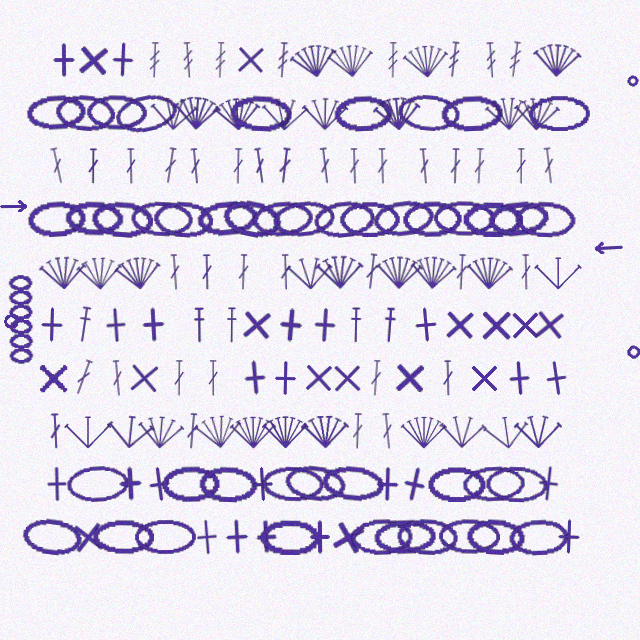chain: (112, 89, 181, 137), (220, 195, 285, 242), (371, 197, 437, 240), (283, 462, 348, 505), (20, 515, 85, 558), (271, 198, 336, 240), (396, 92, 462, 133), (312, 198, 376, 240), (486, 198, 550, 240), (320, 463, 385, 504), (195, 198, 259, 239), (90, 199, 154, 239), (251, 199, 315, 239), (54, 92, 116, 133), (152, 199, 214, 239), (25, 93, 88, 132), (66, 464, 129, 503), (485, 465, 549, 503), (26, 199, 88, 238), (396, 517, 458, 556), (465, 517, 527, 556), (229, 94, 292, 132), (440, 94, 503, 132), (130, 200, 193, 238), (514, 200, 577, 238), (261, 465, 324, 503), (462, 465, 525, 503), (373, 518, 436, 556), (350, 518, 414, 555), (333, 94, 394, 132), (198, 465, 259, 503), (508, 518, 569, 556), (86, 94, 148, 131), (433, 200, 495, 237), (438, 518, 500, 555), (528, 95, 591, 131), (134, 519, 197, 555), (64, 200, 125, 237), (402, 200, 463, 237), (339, 201, 401, 237), (92, 519, 154, 555), (161, 465, 221, 502), (462, 201, 523, 237), (259, 519, 320, 555), (427, 466, 487, 502)
double: (72, 359, 95, 396), (48, 147, 67, 184), (162, 147, 179, 184), (252, 147, 268, 184), (277, 147, 293, 184), (317, 147, 333, 184), (541, 147, 557, 184), (364, 253, 380, 290), (188, 148, 203, 184), (417, 148, 432, 184), (110, 360, 125, 396), (185, 413, 200, 449), (380, 413, 395, 449), (168, 254, 182, 290), (369, 360, 383, 396), (348, 148, 361, 184), (376, 148, 389, 184), (449, 148, 462, 184), (473, 148, 486, 184), (237, 254, 250, 290), (279, 254, 292, 290), (455, 254, 468, 290), (49, 413, 62, 449), (351, 413, 364, 449), (87, 148, 99, 184), (125, 148, 137, 184), (232, 148, 244, 184), (515, 148, 527, 184), (201, 254, 213, 290), (520, 254, 532, 290), (173, 360, 185, 396), (207, 360, 219, 396), (442, 360, 454, 396)
enseble_chain: (6, 274, 36, 366)
fan: (288, 38, 340, 82), (112, 251, 164, 293), (481, 410, 532, 452), (325, 39, 376, 80), (193, 410, 244, 451), (372, 93, 423, 133), (105, 411, 156, 451), (401, 40, 451, 80), (212, 93, 262, 133), (136, 411, 186, 451), (532, 40, 582, 79), (149, 93, 199, 132), (172, 93, 222, 132), (409, 252, 458, 291), (260, 94, 310, 132), (38, 253, 88, 291), (75, 253, 124, 291), (465, 253, 514, 291), (513, 94, 561, 132), (286, 253, 334, 291), (484, 94, 533, 131), (315, 253, 364, 290), (375, 253, 424, 290), (438, 412, 487, 449), (301, 94, 349, 131), (534, 254, 582, 290), (64, 413, 112, 449), (229, 413, 277, 449), (301, 413, 349, 449), (400, 413, 448, 449), (514, 413, 562, 449), (262, 413, 309, 449)
half_double: (75, 306, 94, 343), (382, 307, 397, 343), (192, 307, 206, 343), (349, 307, 363, 343), (225, 307, 238, 343)
noise: (592, 241, 623, 254), (1, 311, 21, 331), (0, 200, 29, 212), (625, 343, 640, 361), (625, 73, 640, 88)
single: (326, 515, 370, 559), (393, 463, 435, 505), (536, 358, 576, 398), (139, 464, 179, 504), (68, 517, 108, 557), (237, 305, 276, 344), (406, 305, 445, 344), (530, 305, 569, 344), (235, 358, 274, 397), (529, 464, 568, 503), (74, 41, 112, 79), (97, 306, 135, 344), (272, 306, 310, 344), (306, 306, 344, 344), (125, 359, 163, 397), (500, 359, 538, 397), (243, 465, 281, 503), (188, 518, 226, 556), (104, 41, 141, 78), (232, 41, 269, 78), (33, 306, 70, 343), (135, 306, 172, 343), (441, 306, 478, 343), (300, 359, 337, 396), (391, 359, 428, 396), (112, 465, 149, 502), (218, 518, 255, 555), (247, 518, 284, 555), (550, 518, 587, 555), (46, 42, 82, 78), (478, 307, 514, 343), (507, 307, 543, 343), (35, 360, 71, 396), (267, 360, 303, 396), (329, 360, 365, 396), (466, 360, 502, 396), (39, 466, 75, 502), (369, 466, 405, 502), (302, 519, 338, 555)
treble: (446, 41, 462, 78), (507, 41, 523, 78), (181, 42, 195, 78), (276, 42, 290, 78), (484, 42, 498, 78), (148, 42, 161, 78), (214, 42, 227, 78), (387, 42, 399, 78)
